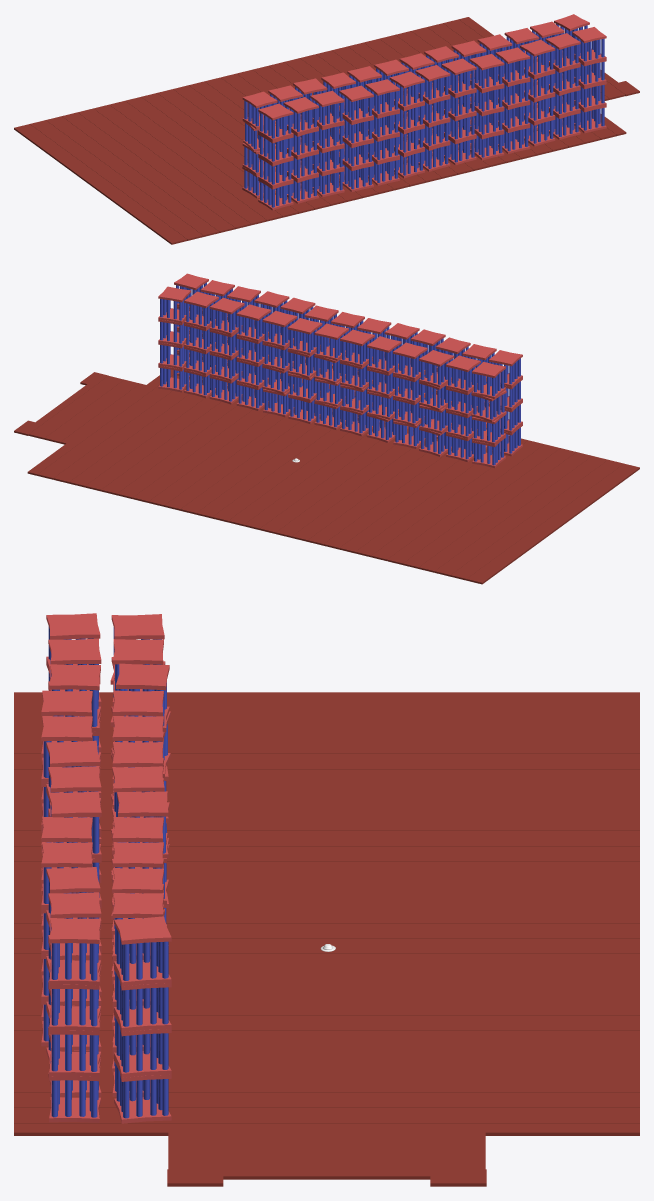
Rendered from Prop_HutInterior_Fabi_M.fbx.
3 views of the same model, one above another, from view 1: azimuth 30°, elevation 25°; view 2: azimuth 150°, elevation 25°; view 3: azimuth 270°, elevation 25° (orthographic). The views are drawn at different scales.
Parts seen in each view (by area): view 1: ASL_HutInterior; view 2: ASL_HutInterior; view 3: ASL_HutInterior.
Boxes of the visible parts, box(x1,y1,x2,y2) form: ASL_HutInterior: box(14, 14, 639, 244); ASL_HutInterior: box(14, 273, 639, 584); ASL_HutInterior: box(14, 613, 639, 1186).
Bounding box in the file's own units: 806 × 143 × 434.
